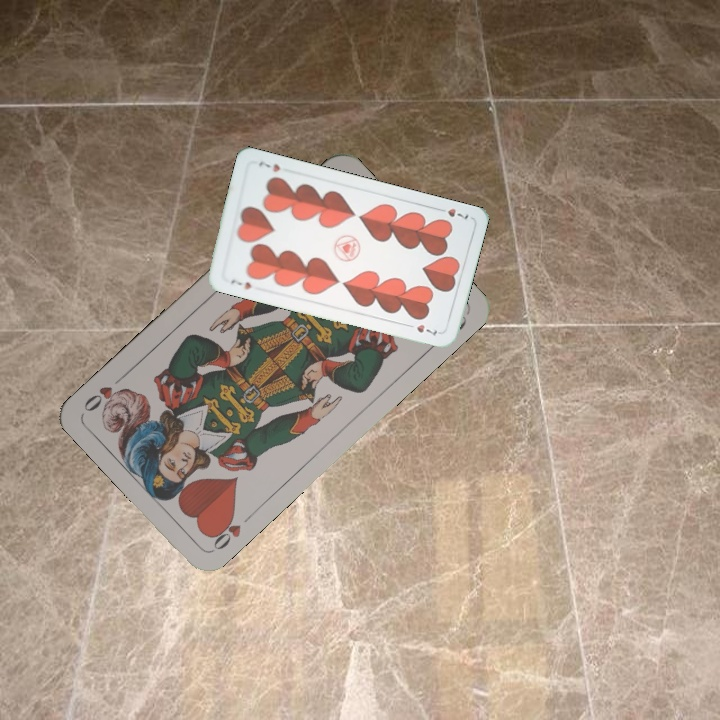H7: (433, 204, 471, 222), (227, 276, 254, 292)
HO: (204, 508, 256, 553)
